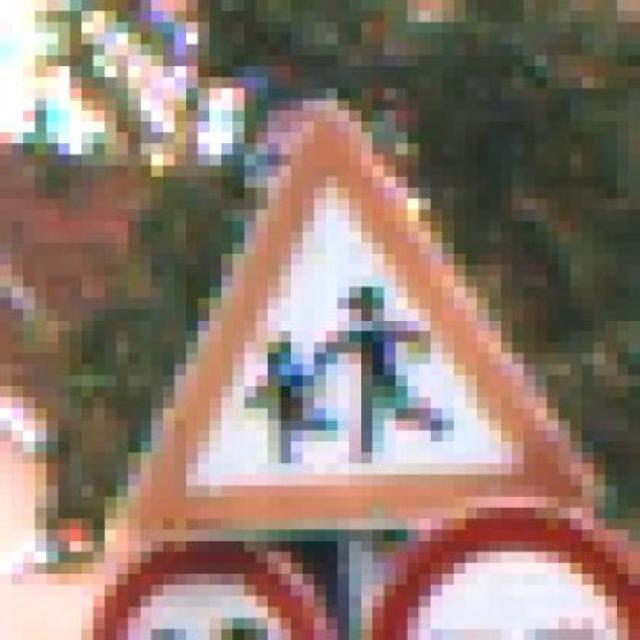Beware of children: (105, 99, 604, 541)
